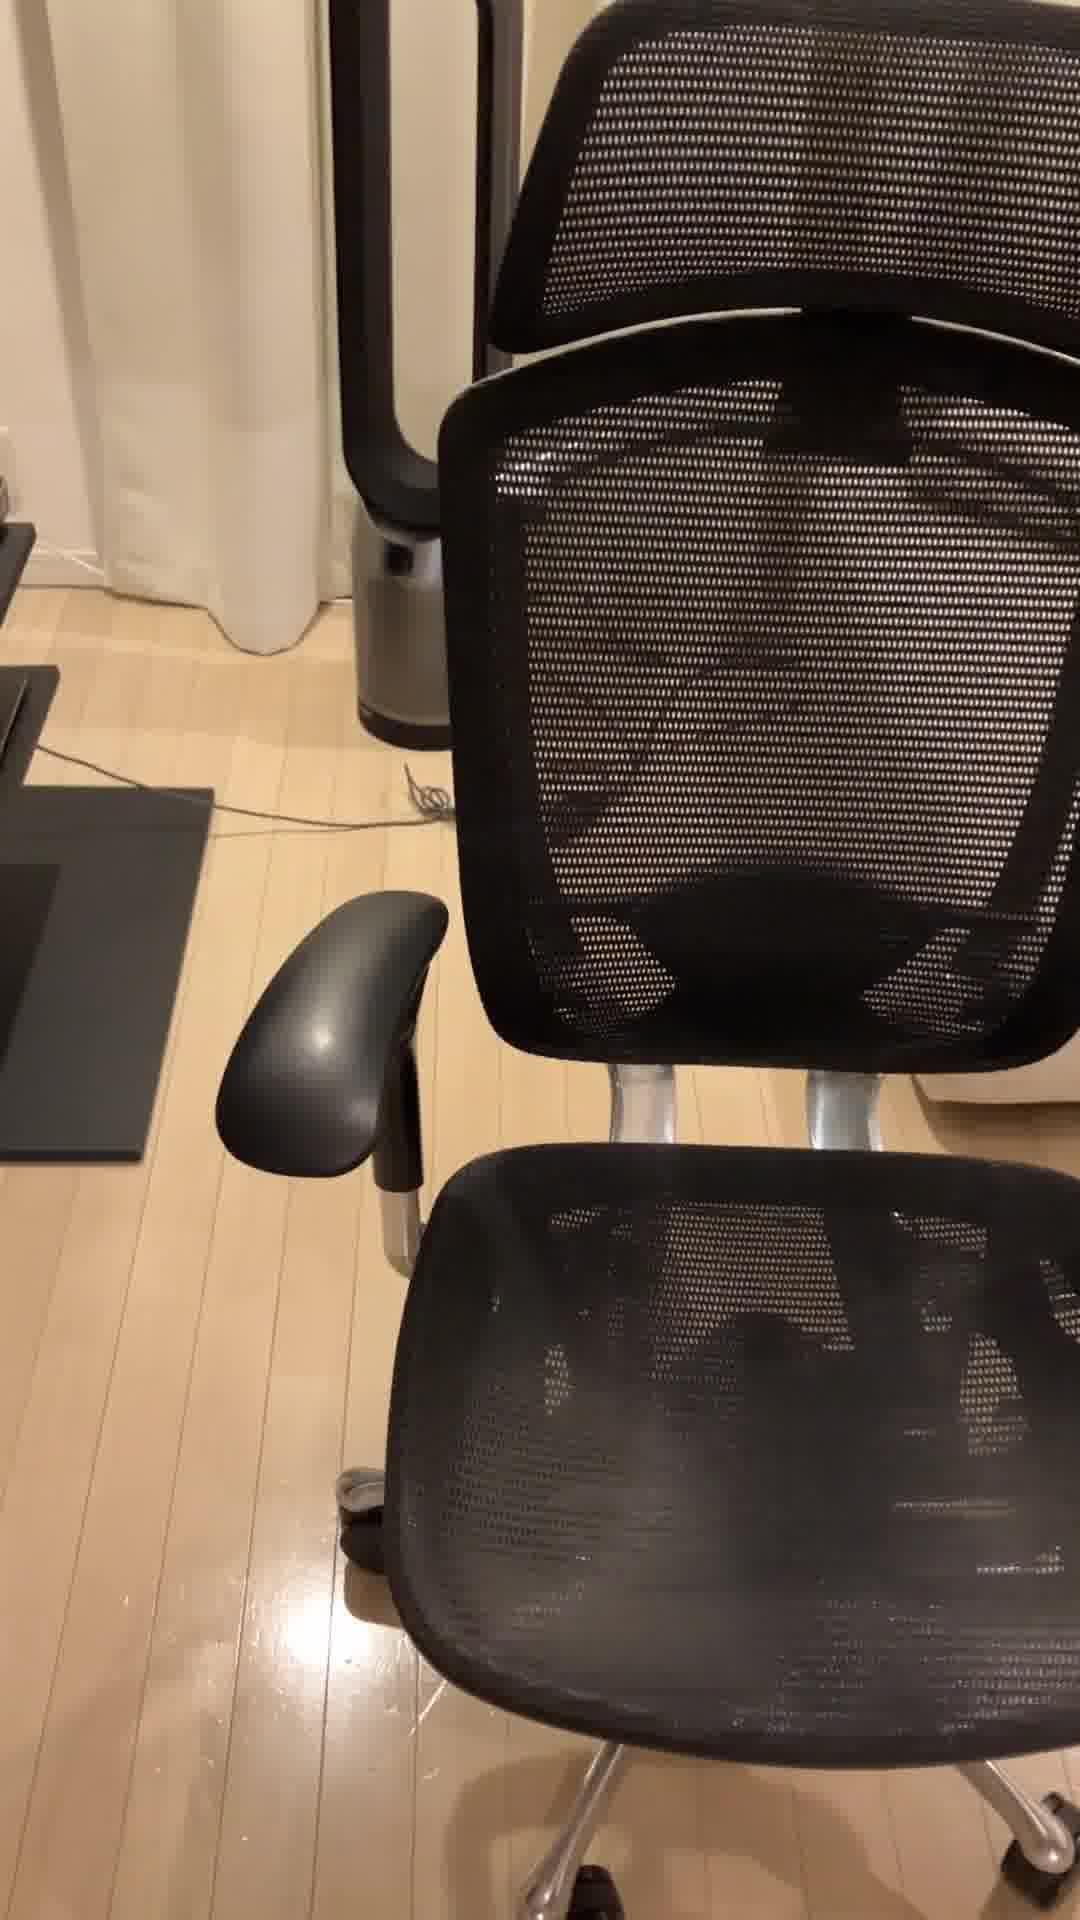okamura-contessa: (208, 0, 1080, 1920)
